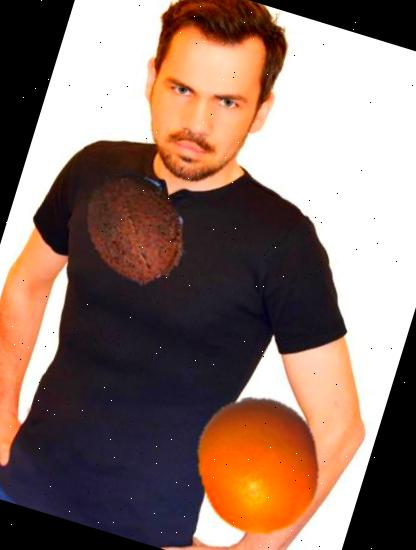Cocos: (63, 154, 209, 300)
Grapefruit: (171, 378, 346, 550)
Pear: (198, 390, 327, 519)
